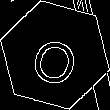O_N: (27, 24, 83, 86)
